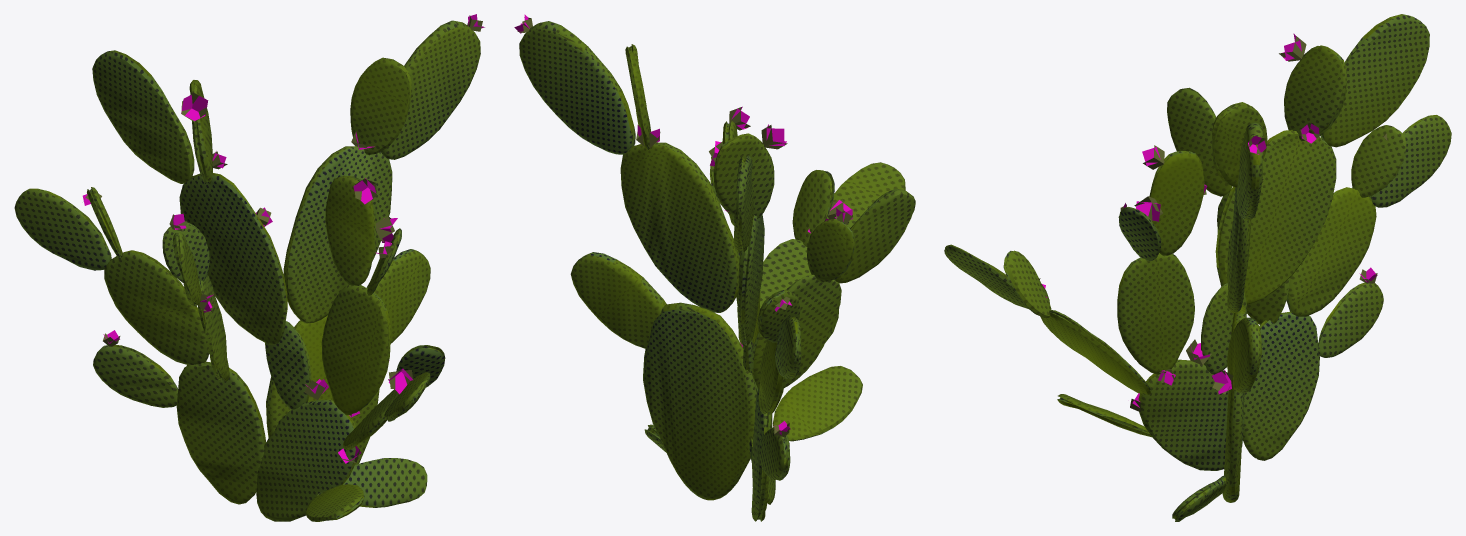
File: runtime-flat-cactus.glb
The picture shows the model from 3 angles, left to right: view 1: azimuth 30°, elevation 25°; view 2: azimuth 150°, elevation 25°; view 3: azimuth 270°, elevation 25°; orthographic projection.
Parts seen in each view (by area): view 1: Flat cactus_0, Cactus Flower_1; view 2: Flat cactus_0, Cactus Flower_1; view 3: Flat cactus_0.
Boxes of the visible parts, <box> form: Flat cactus_0: <box>14,20,480,521</box>; Cactus Flower_1: <box>181,92,208,122</box>; Flat cactus_0: <box>519,21,915,521</box>; Cactus Flower_1: <box>761,124,787,149</box>; Flat cactus_0: <box>944,14,1451,521</box>.
Bounding box in the file's own units: 3.11 × 3.54 × 3.64.
Materials: 3 (1 with a texture image).
